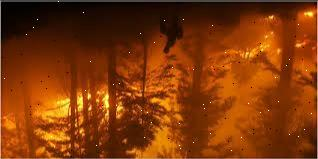fire: (213, 0, 318, 86)
